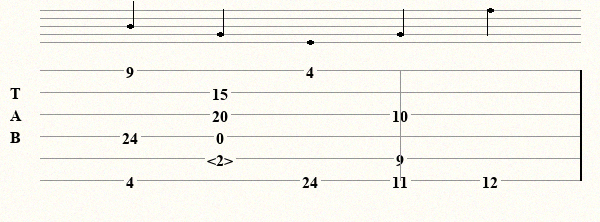0: (216, 129, 228, 144)
10: (392, 107, 412, 122)
11: (392, 173, 412, 188)
12: (482, 173, 502, 188)
15: (212, 85, 232, 100)
20: (212, 107, 232, 122)
24: (122, 129, 142, 144), (302, 173, 322, 188)
4: (126, 173, 138, 188), (306, 63, 318, 78)
9: (126, 63, 138, 78), (396, 151, 408, 166)
harmonic: (207, 151, 237, 166)
